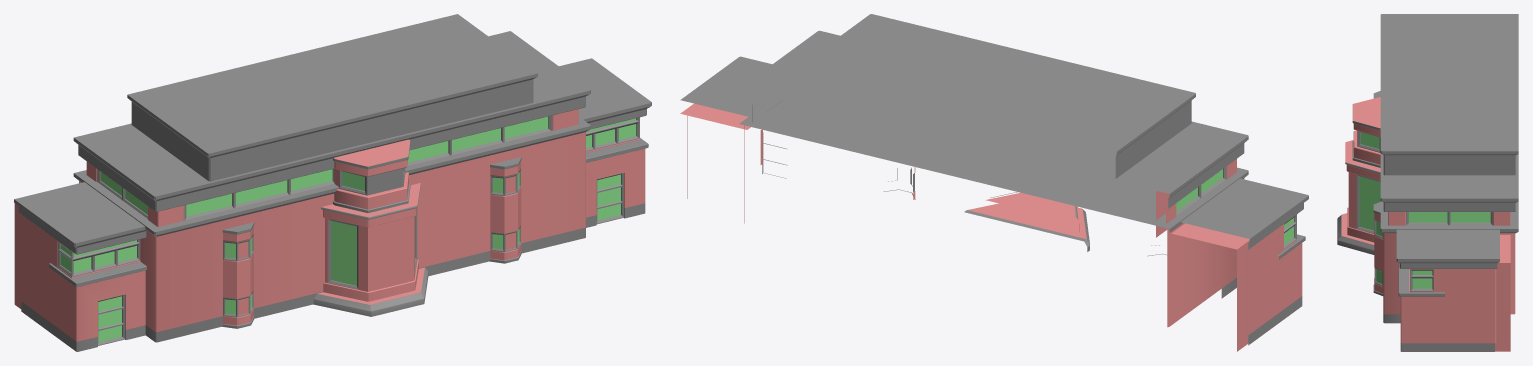
Rendered from S_Envi_Umeda_Building_007B.gltf.
3 views of the same model, side by side, from view 1: azimuth 30°, elevation 25°; view 2: azimuth 150°, elevation 25°; view 3: azimuth 270°, elevation 25° (orthographic). The views are drawn at different scales.
Visible parts, largest first — view 1: S_Envi_Umeda_Building_007B; view 2: S_Envi_Umeda_Building_007B; view 3: S_Envi_Umeda_Building_007B.
Part boxes in pixels (box(x1,y1,x2,y2)): S_Envi_Umeda_Building_007B: box(14, 14, 651, 351); S_Envi_Umeda_Building_007B: box(680, 14, 1308, 351); S_Envi_Umeda_Building_007B: box(1337, 14, 1518, 351).
Bounding box in the file's own units: 48.32 × 14.23 × 15.41.
